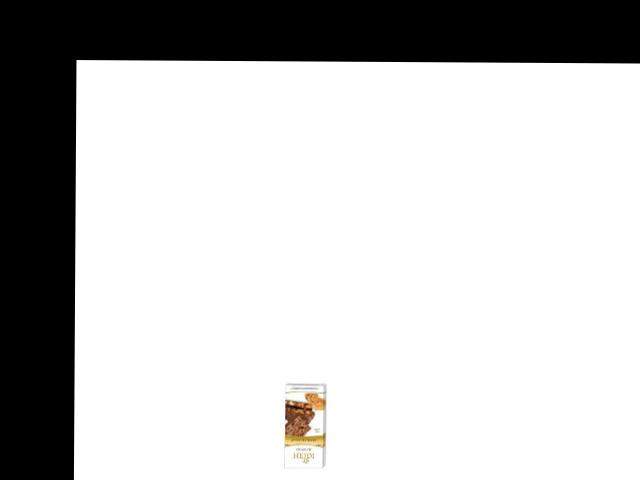chocolate: (283, 381, 328, 471)
